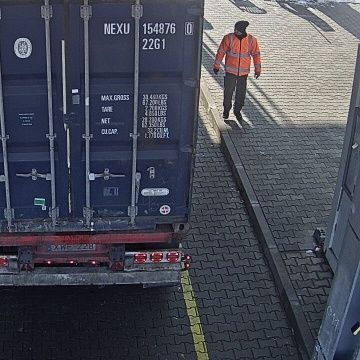serial_id: (104, 23, 192, 34)
